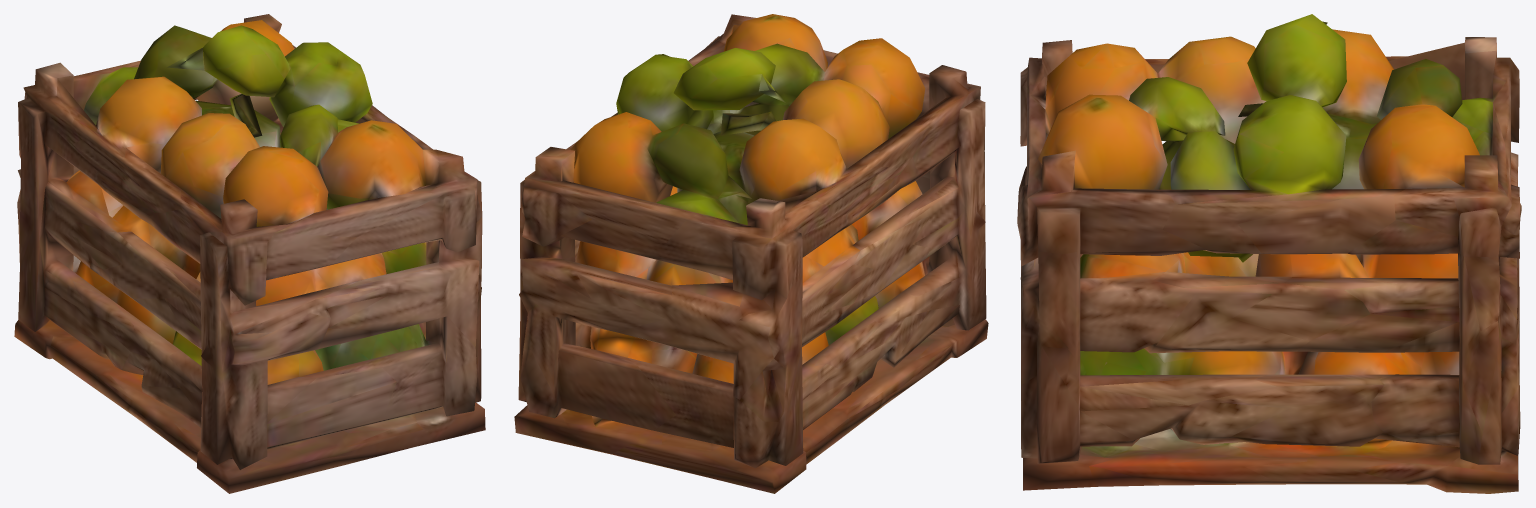
The model's file is crate-fruit.glb.
The picture shows the model from 3 angles, left to right: view 1: azimuth 30°, elevation 25°; view 2: azimuth 150°, elevation 25°; view 3: azimuth 270°, elevation 25°; orthographic projection. The views are drawn at different scales.
Parts seen in each view (by area): view 1: tripo_node_00df3375-0c0a-4971-bed5-5f245337c75d; view 2: tripo_node_00df3375-0c0a-4971-bed5-5f245337c75d; view 3: tripo_node_00df3375-0c0a-4971-bed5-5f245337c75d.
Part boxes in pixels (bbox=[...]): tripo_node_00df3375-0c0a-4971-bed5-5f245337c75d: bbox=[14, 14, 485, 493]; tripo_node_00df3375-0c0a-4971-bed5-5f245337c75d: bbox=[514, 14, 988, 493]; tripo_node_00df3375-0c0a-4971-bed5-5f245337c75d: bbox=[1017, 14, 1521, 493].
Bounding box in the file's own units: 0.7422 × 0.8705 × 0.995.
1 material, 1 textured.
